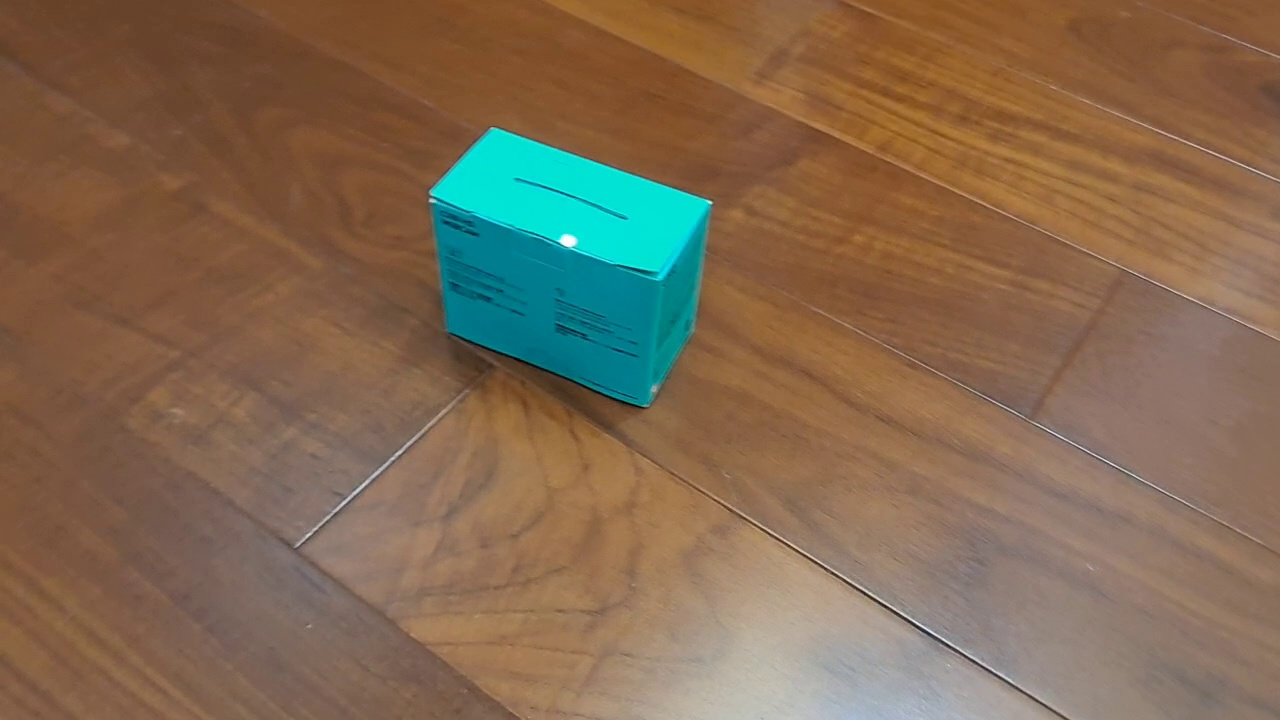webcam: (426, 125, 716, 411)
